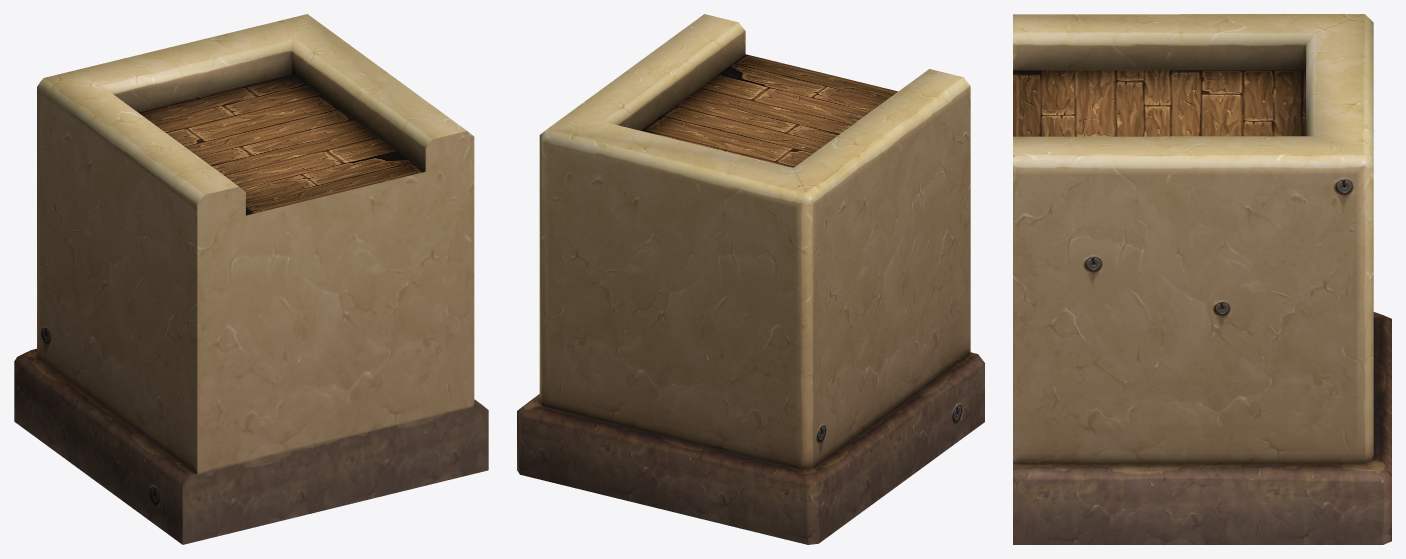
Rendered from DE_House_Mod_Part_05.fbx.
3 renders of one model, left to right at view 1: azimuth 30°, elevation 25°; view 2: azimuth 150°, elevation 25°; view 3: azimuth 270°, elevation 25°, orthographic. The views are drawn at different scales.
Visible parts, largest first — view 1: DE_House_Mod_Part_05; view 2: DE_House_Mod_Part_05; view 3: DE_House_Mod_Part_05.
Part boxes in pixels (x1,y1,x2,y2): DE_House_Mod_Part_05: [14, 14, 488, 544]; DE_House_Mod_Part_05: [517, 14, 984, 544]; DE_House_Mod_Part_05: [1013, 14, 1391, 544].
Size of the model in its own units: 5.3 by 5.71 by 5.18.
